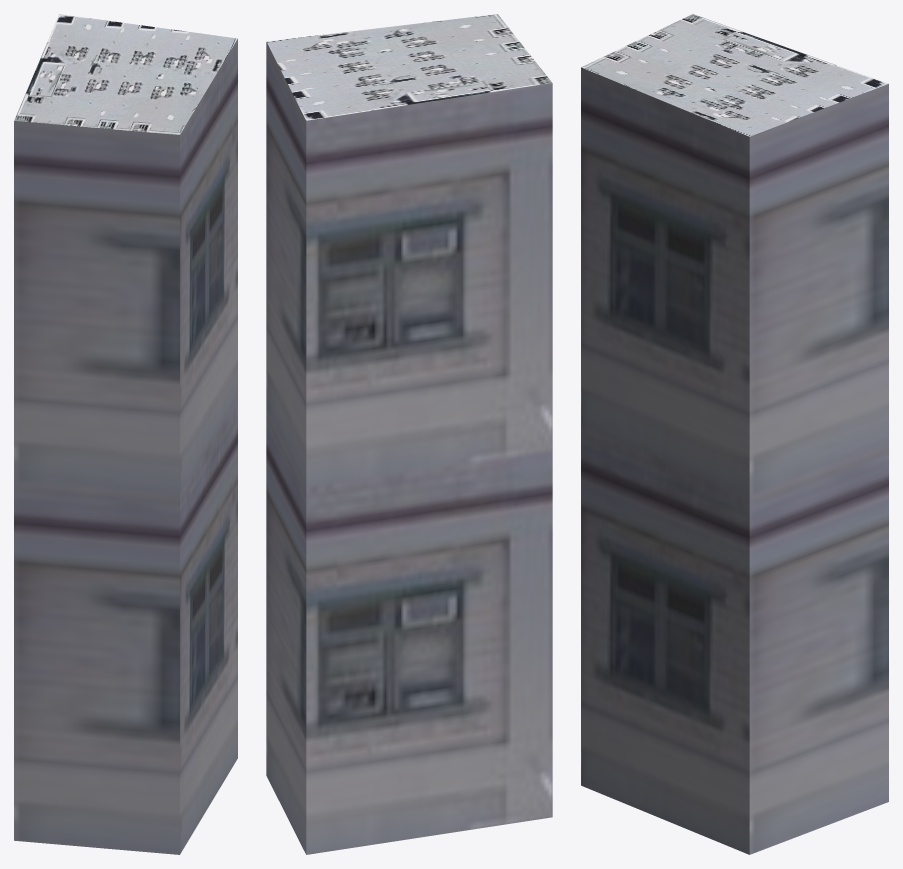
The model's file is ResTex__3740.fbx.
3 views of the same model, side by side, from view 1: azimuth 30°, elevation 25°; view 2: azimuth 150°, elevation 25°; view 3: azimuth 270°, elevation 25° (orthographic). The views are drawn at different scales.
Visible parts, largest first — view 1: CityEngineMaterial_1_m, CityEngineMaterial_8_m; view 2: CityEngineMaterial_1_m, CityEngineMaterial_8_m; view 3: CityEngineMaterial_1_m, CityEngineMaterial_8_m.
Part boxes in pixels (<box>): CityEngineMaterial_1_m: <box>14,39,237,854</box>; CityEngineMaterial_8_m: <box>14,14,237,134</box>; CityEngineMaterial_1_m: <box>266,42,552,854</box>; CityEngineMaterial_8_m: <box>267,14,551,120</box>; CityEngineMaterial_1_m: <box>581,67,888,854</box>; CityEngineMaterial_8_m: <box>581,14,888,136</box>.
Size of the model in its own units: 2.2 by 6 by 2.33.
2 materials, 2 textured.
